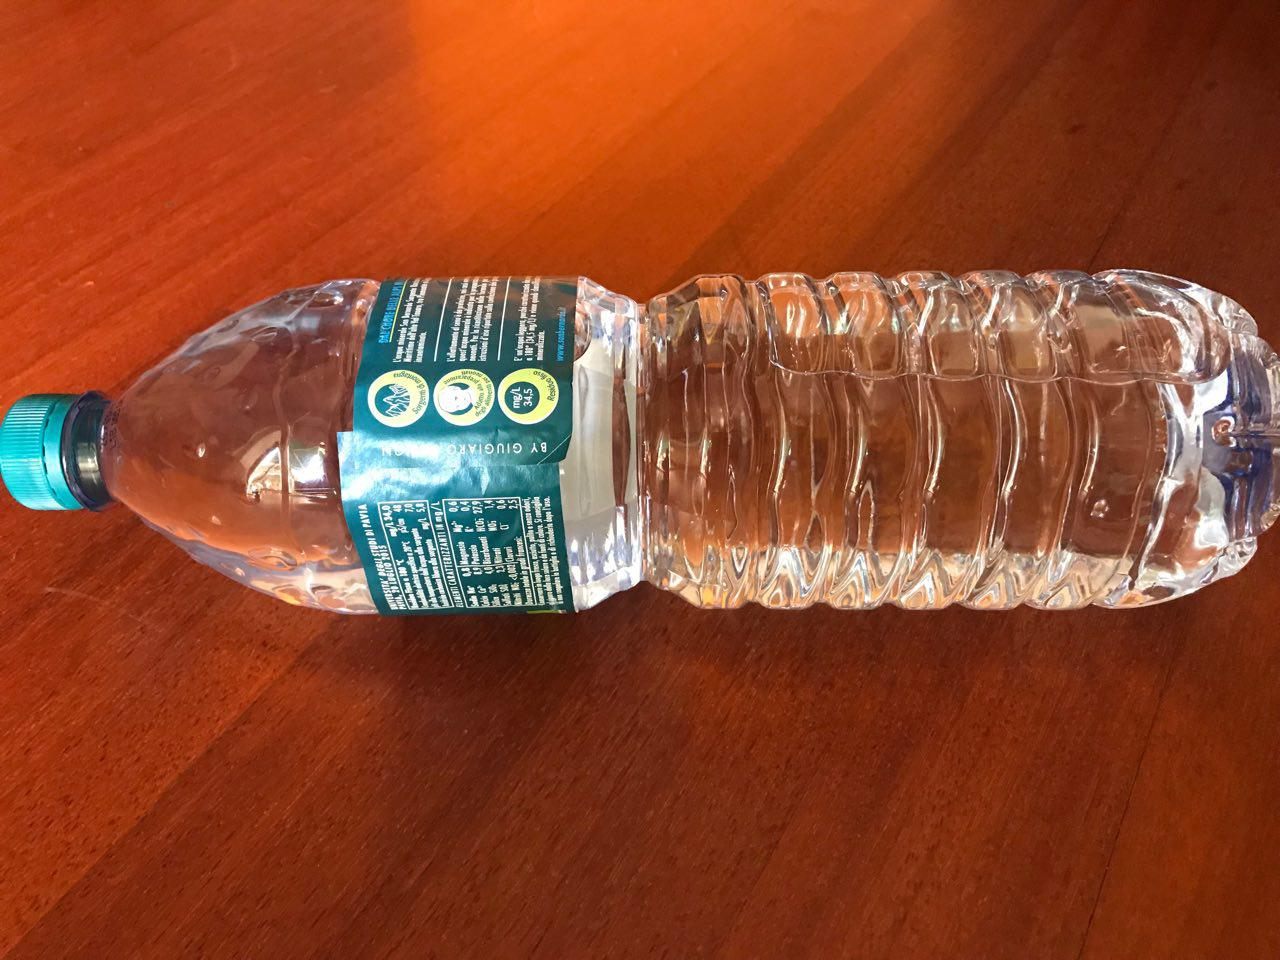san_bernardo: (1, 267, 1280, 620)
